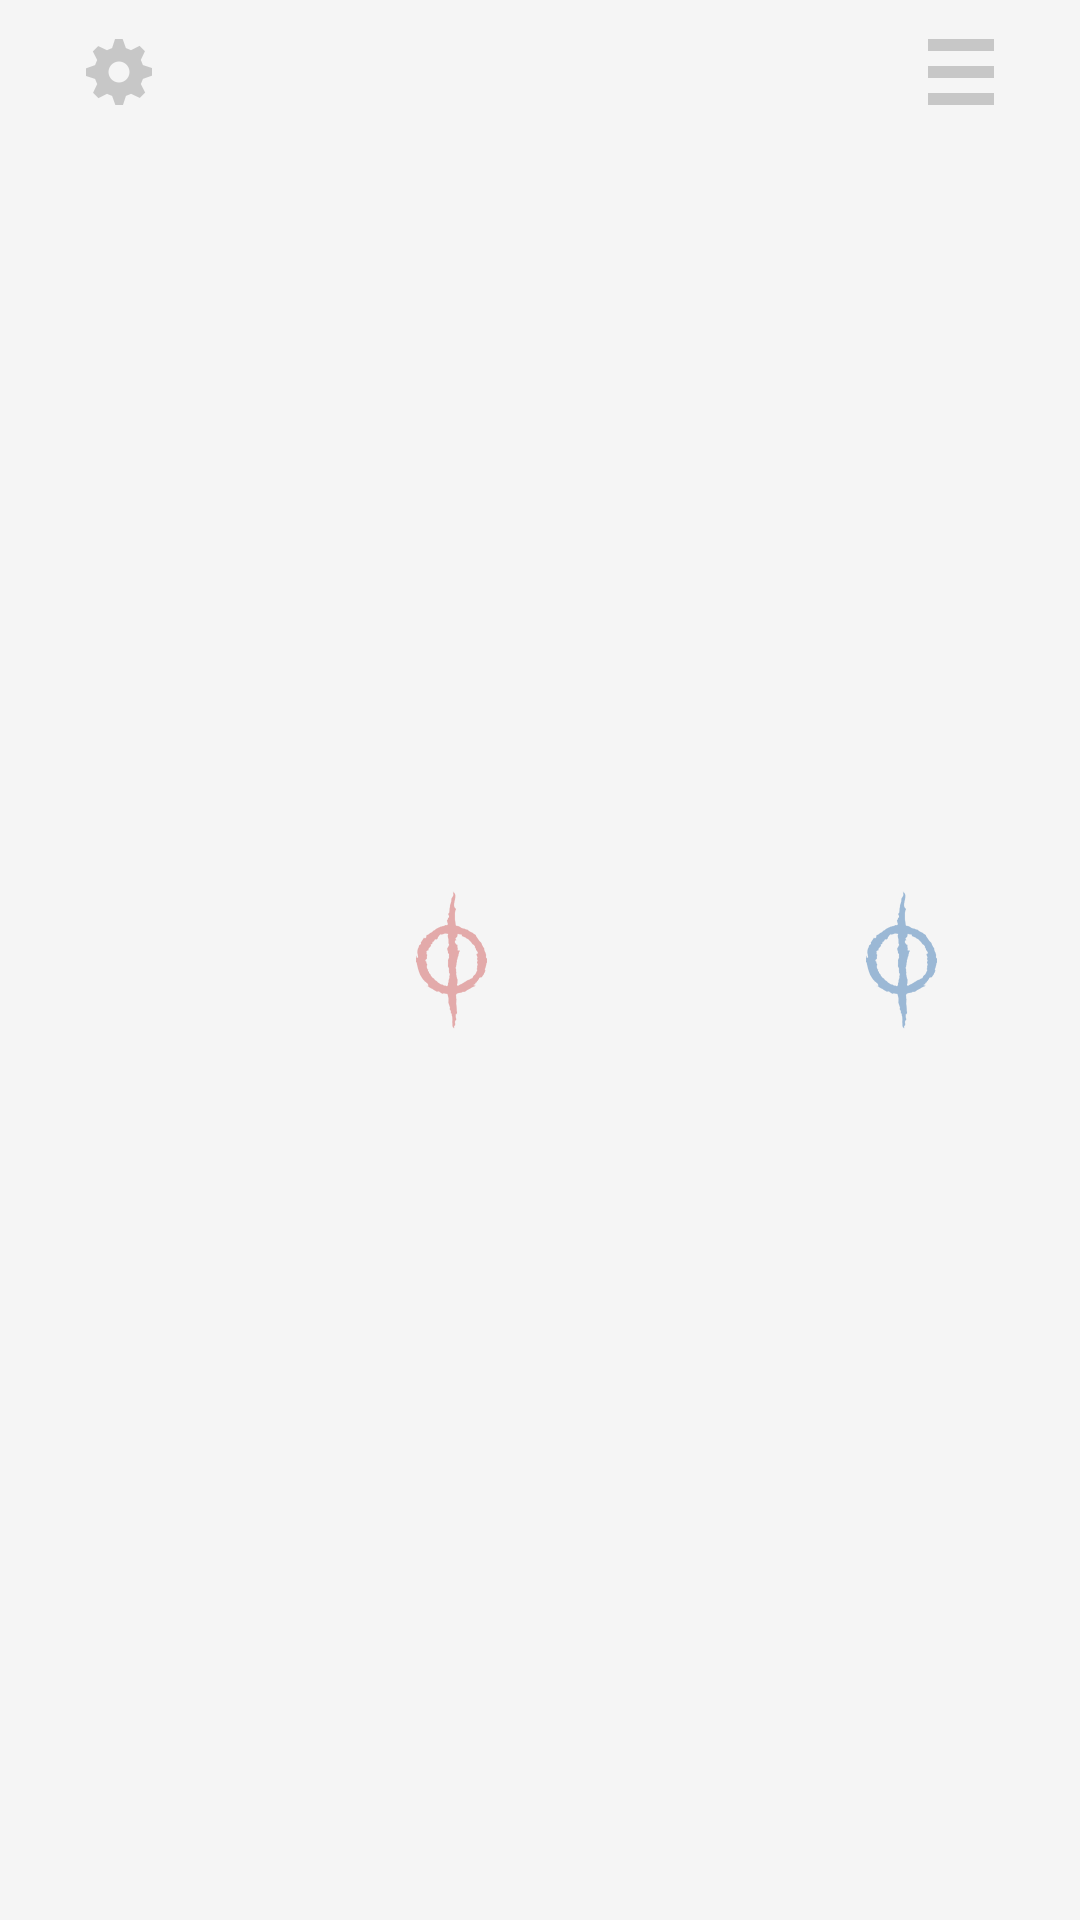

Icon click points for this 1080px x 1920px phone screenshot, format (x=x, y=y):
settings: (x=119, y=72)
